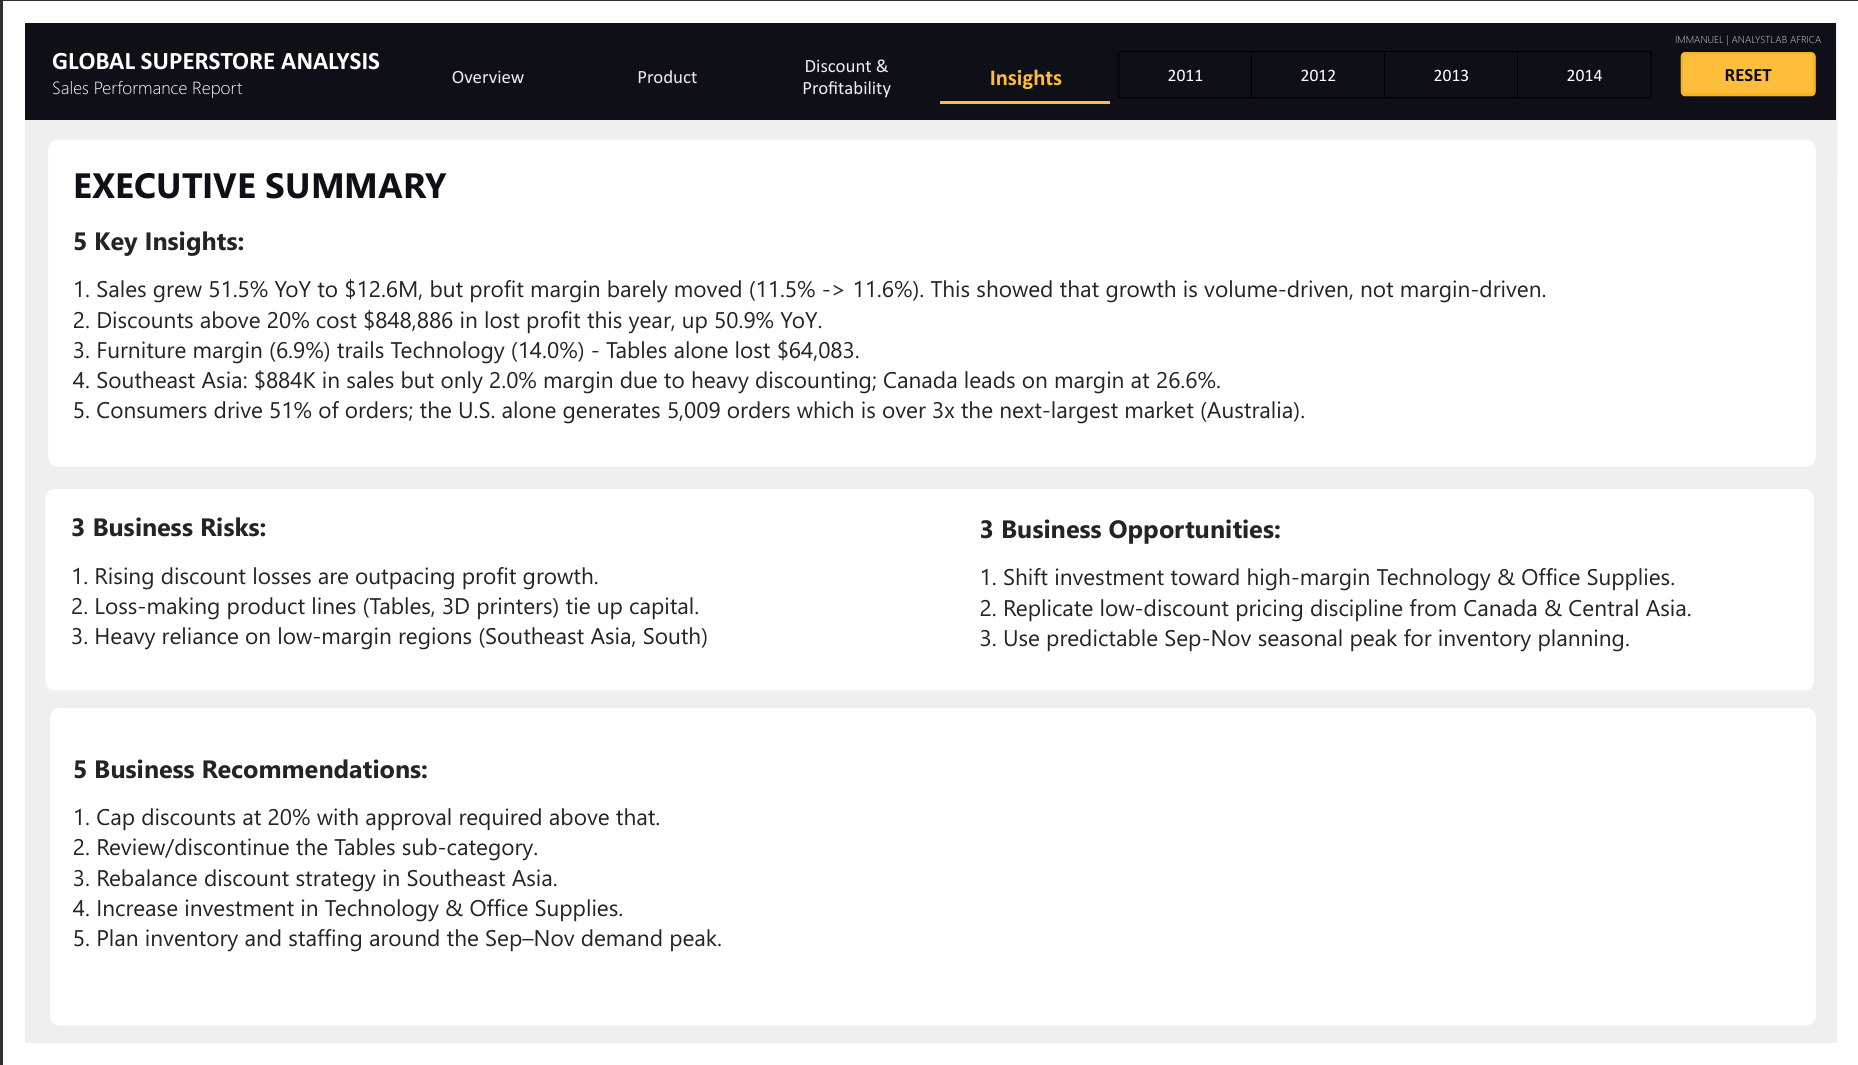

Layout of this report page (visuals, bound fields, positions):
{"tool":"powerbi","page":{"name":"Insights","canvas":[1920,1080],"ordinal":3},"visuals":[{"type":"shape","box":[0,0,1919.3,102.2],"z":0},{"type":"advancedSlicerVisual","fields":{"Values":["Calender.Year"]},"box":[1153.5,24.3,576.9,60.5],"z":1000},{"type":"textbox","box":[22.7,18.2,372.2,67.5],"z":2000},{"type":"actionButton","box":[1754.2,29.8,143,47.7],"z":3000},{"type":"pageNavigator","box":[400.3,18.9,753.2,66.3],"z":4000},{"type":"textbox","box":[1743.3,2.2,176.1,30.8],"z":5000},{"type":"shape","box":[23.7,123.2,1873.4,345.8],"z":6000},{"type":"textbox","box":[45,139.7,1826.1,310.3],"z":7000},{"type":"shape","box":[21.3,492.6,1873.4,213.2],"z":8000},{"type":"textbox","box":[42.6,509.2,1826.1,168.2],"z":9000},{"type":"shape","box":[26.1,724.7,1871.1,336.3],"z":10000},{"type":"textbox","box":[1006.2,511,872.2,177.2],"z":11000},{"type":"textbox","box":[45.4,765.4,871.6,255.8],"z":12000}]}

Visuals, with their boxes on the page's 1920x1080 design canvas (x1, y1, x2, y2). These are canvas units, not pixel positions in the 1858x1065 screenshot, which may show the page scaled, cropped or inside an application window:
shape: 0, 0, 1919, 102
advancedSlicerVisual - Calender.Year: 1154, 24, 1730, 85
textbox: 23, 18, 395, 86
actionButton: 1754, 30, 1897, 78
pageNavigator: 400, 19, 1154, 85
textbox: 1743, 2, 1919, 33
shape: 24, 123, 1897, 469
textbox: 45, 140, 1871, 450
shape: 21, 493, 1895, 706
textbox: 43, 509, 1869, 677
shape: 26, 725, 1897, 1061
textbox: 1006, 511, 1878, 688
textbox: 45, 765, 917, 1021
